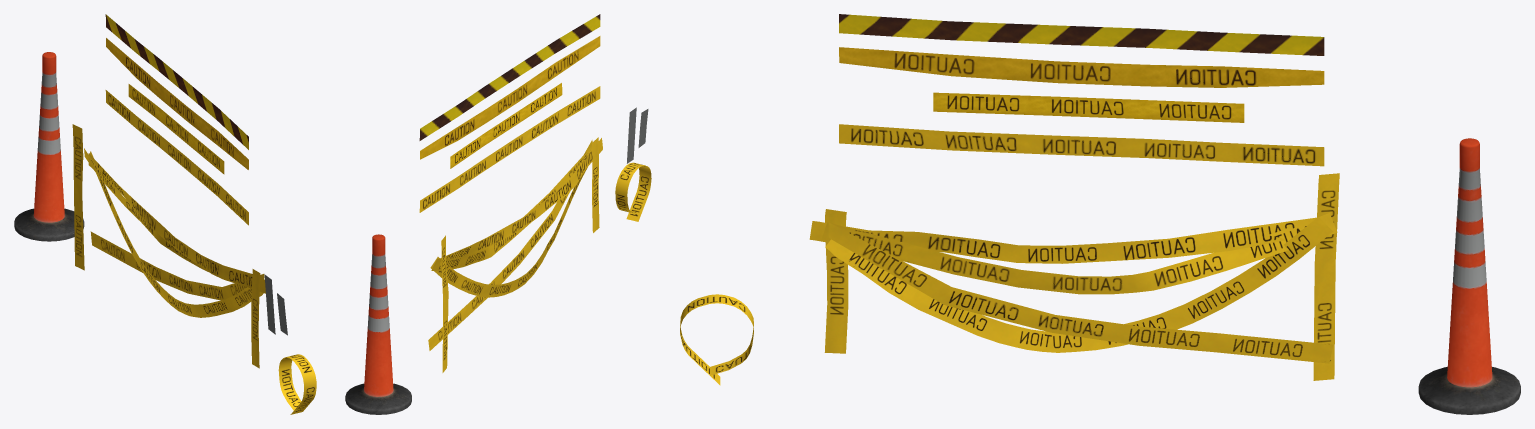
File: caution-tape.glb
3 renders of one model, left to right at view 1: azimuth 30°, elevation 25°; view 2: azimuth 150°, elevation 25°; view 3: azimuth 270°, elevation 25°, orthographic. The views are drawn at different scales.
Visible parts, largest first — view 1: Stand, CautionTape_2, CautionTape_5, CautionTape_1, CautionTape_7, CautionTape_8, CautionTape_4, CautionTape_11, CautionTape_10, CautionTape_3, CautionTape_6, CautionTape_9 (+1 smaller); view 2: Stand, CautionTape_2, CautionTape_1, CautionTape_4, CautionTape_5, CautionTape_7, CautionTape_8, CautionTape_3, CautionTape_11, CautionTape_6, CautionTape_10, CautionTape_9 (+1 smaller); view 3: Stand, CautionTape_2, CautionTape_8, CautionTape_7, CautionTape_1, CautionTape_4, CautionTape_6, CautionTape_5, CautionTape_3, CautionTape_10, CautionTape_9, CautionTape_11.
Part boxes in pixels (<box>): Stand: <box>14,52,84,241</box>; CautionTape_2: <box>106,38,248,169</box>; CautionTape_5: <box>88,153,265,293</box>; CautionTape_1: <box>105,14,248,149</box>; CautionTape_7: <box>89,151,263,317</box>; CautionTape_8: <box>90,231,264,300</box>; CautionTape_4: <box>105,90,248,225</box>; CautionTape_11: <box>278,354,316,414</box>; CautionTape_10: <box>72,124,84,270</box>; CautionTape_3: <box>128,84,224,174</box>; CautionTape_6: <box>84,148,261,278</box>; CautionTape_9: <box>251,269,260,368</box>; Stand: <box>345,234,411,414</box>; CautionTape_2: <box>420,36,600,159</box>; CautionTape_1: <box>419,14,600,140</box>; CautionTape_4: <box>419,86,600,212</box>; CautionTape_5: <box>439,138,602,269</box>; CautionTape_7: <box>430,167,587,297</box>; CautionTape_8: <box>428,140,592,350</box>; CautionTape_3: <box>450,83,562,168</box>; CautionTape_11: <box>615,162,651,221</box>; CautionTape_6: <box>431,146,592,271</box>; CautionTape_10: <box>441,235,448,372</box>; CautionTape_9: <box>592,137,599,232</box>; Stand: <box>1418,138,1520,414</box>; CautionTape_2: <box>839,47,1324,87</box>; CautionTape_8: <box>828,222,1333,363</box>; CautionTape_7: <box>825,217,1332,352</box>; CautionTape_1: <box>839,14,1324,55</box>; CautionTape_4: <box>839,124,1324,166</box>; CautionTape_6: <box>821,213,1337,294</box>; CautionTape_5: <box>809,217,1316,263</box>; CautionTape_3: <box>933,92,1244,122</box>; CautionTape_10: <box>1313,173,1339,380</box>; CautionTape_9: <box>824,209,848,353</box>; CautionTape_11: <box>680,294,753,385</box>.
Size of the model in its own units: 38.45 by 153 by 317.
Materials: 1 (1 with a texture image).
